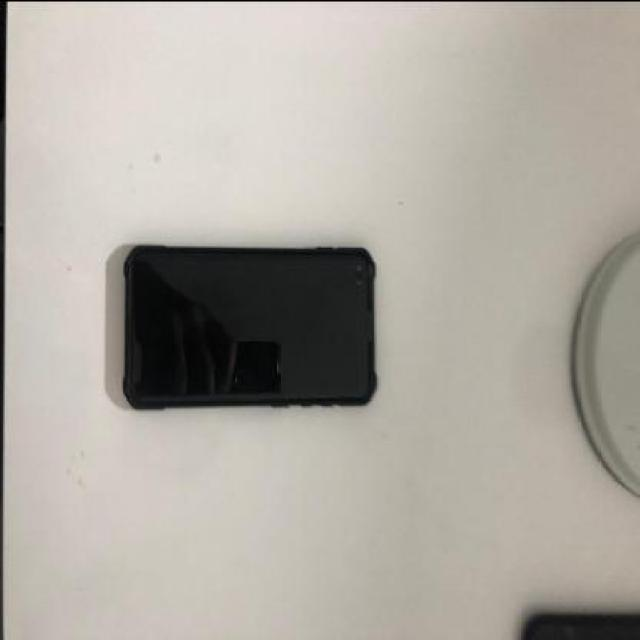phone: (122, 242, 378, 406)
